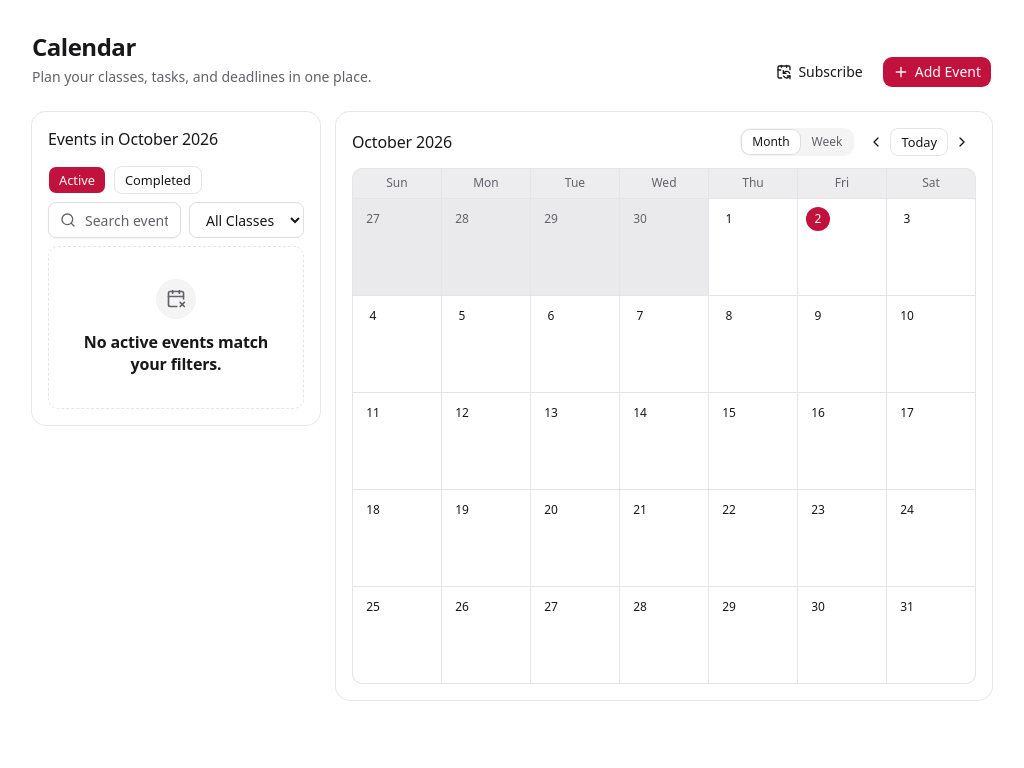
CalendarPage › closes the form with Escape
The width and height of the screenshot is (1024, 768).
Click the button "Add Event": {"x": 937, "y": 72} x1=882 y1=56 x2=992 y2=88
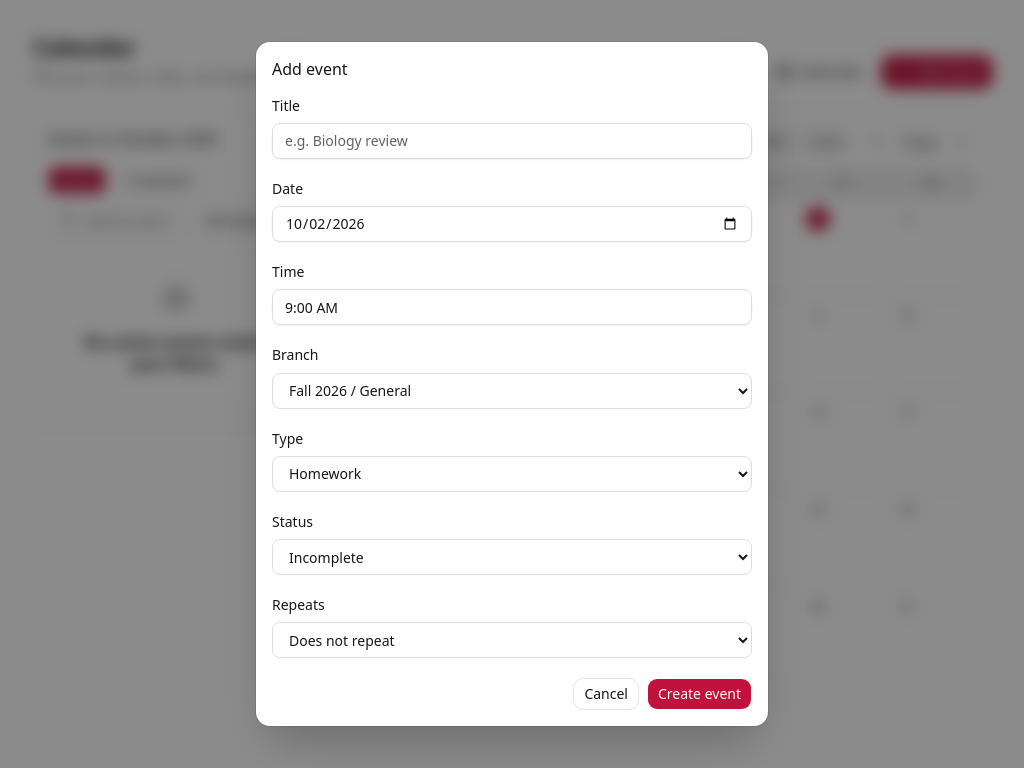
Result: the field labelled "Title" is shown at x1=272 y1=123 x2=752 y2=159
Press Escape
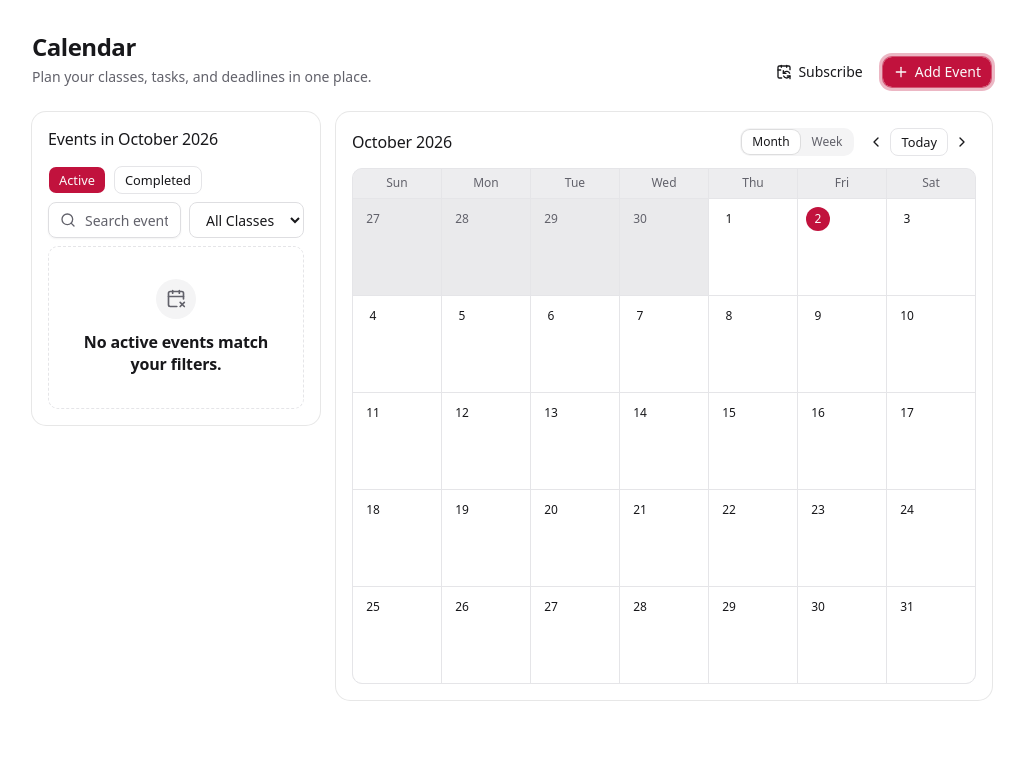
Result: the label labelled "Title" is gone
